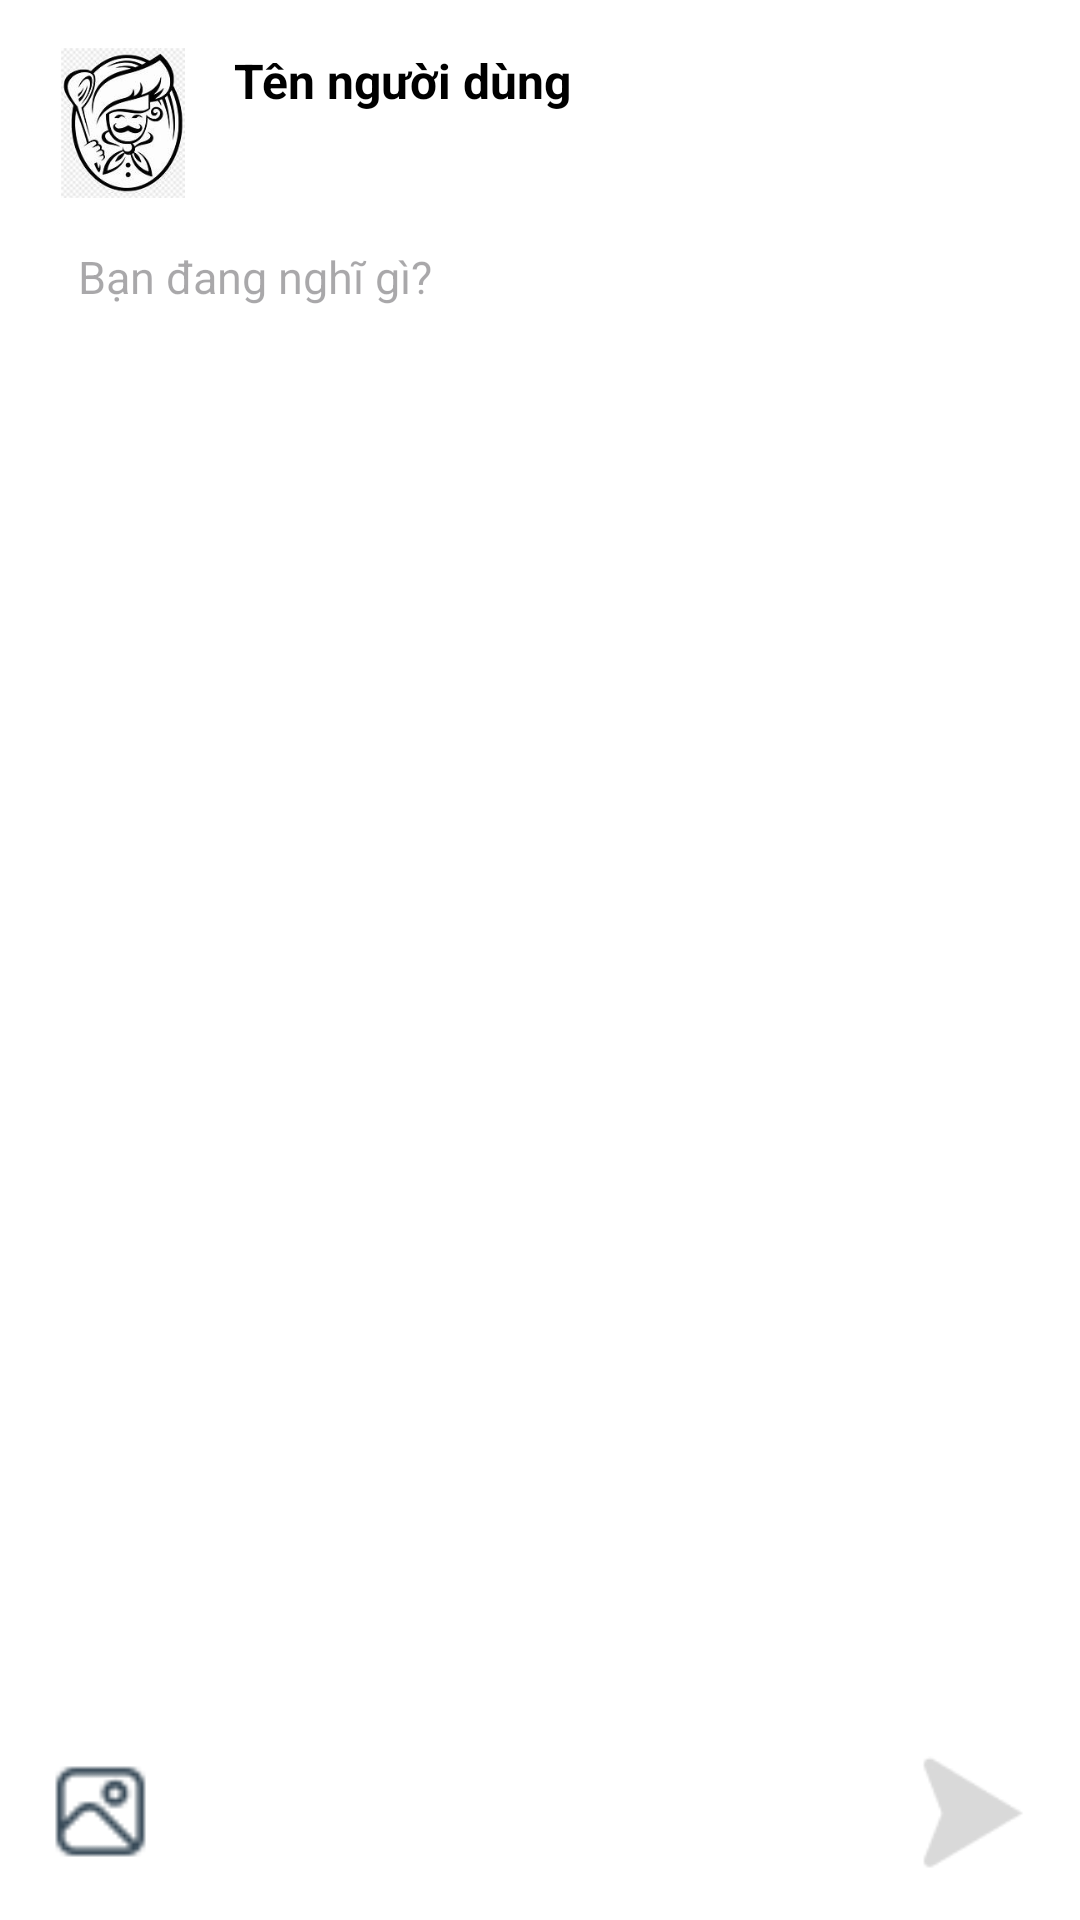

Screen size 1080px x 1920px. Icon name, then its center in pixels as point (x, y):
Chọn ảnh: point (100, 1811)
Gửi bài viết: point (972, 1813)
